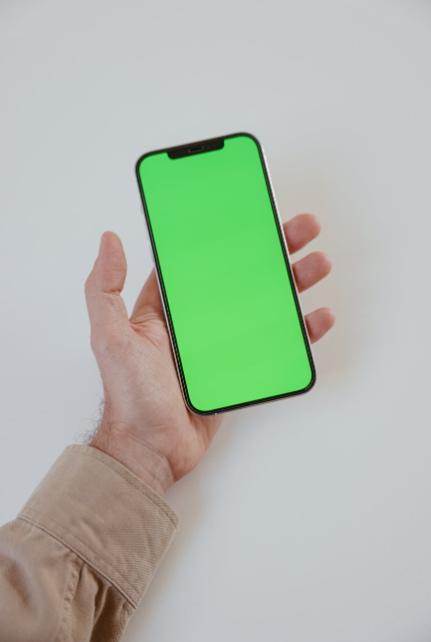mobile: (137, 135, 316, 415)
